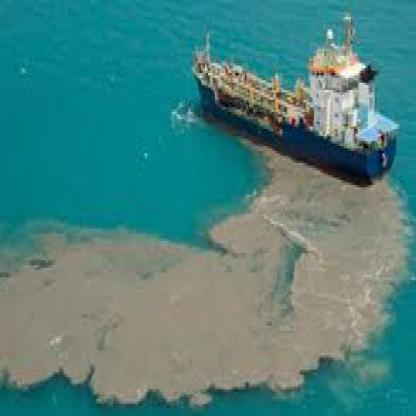fish-b: (184, 7, 406, 202)
